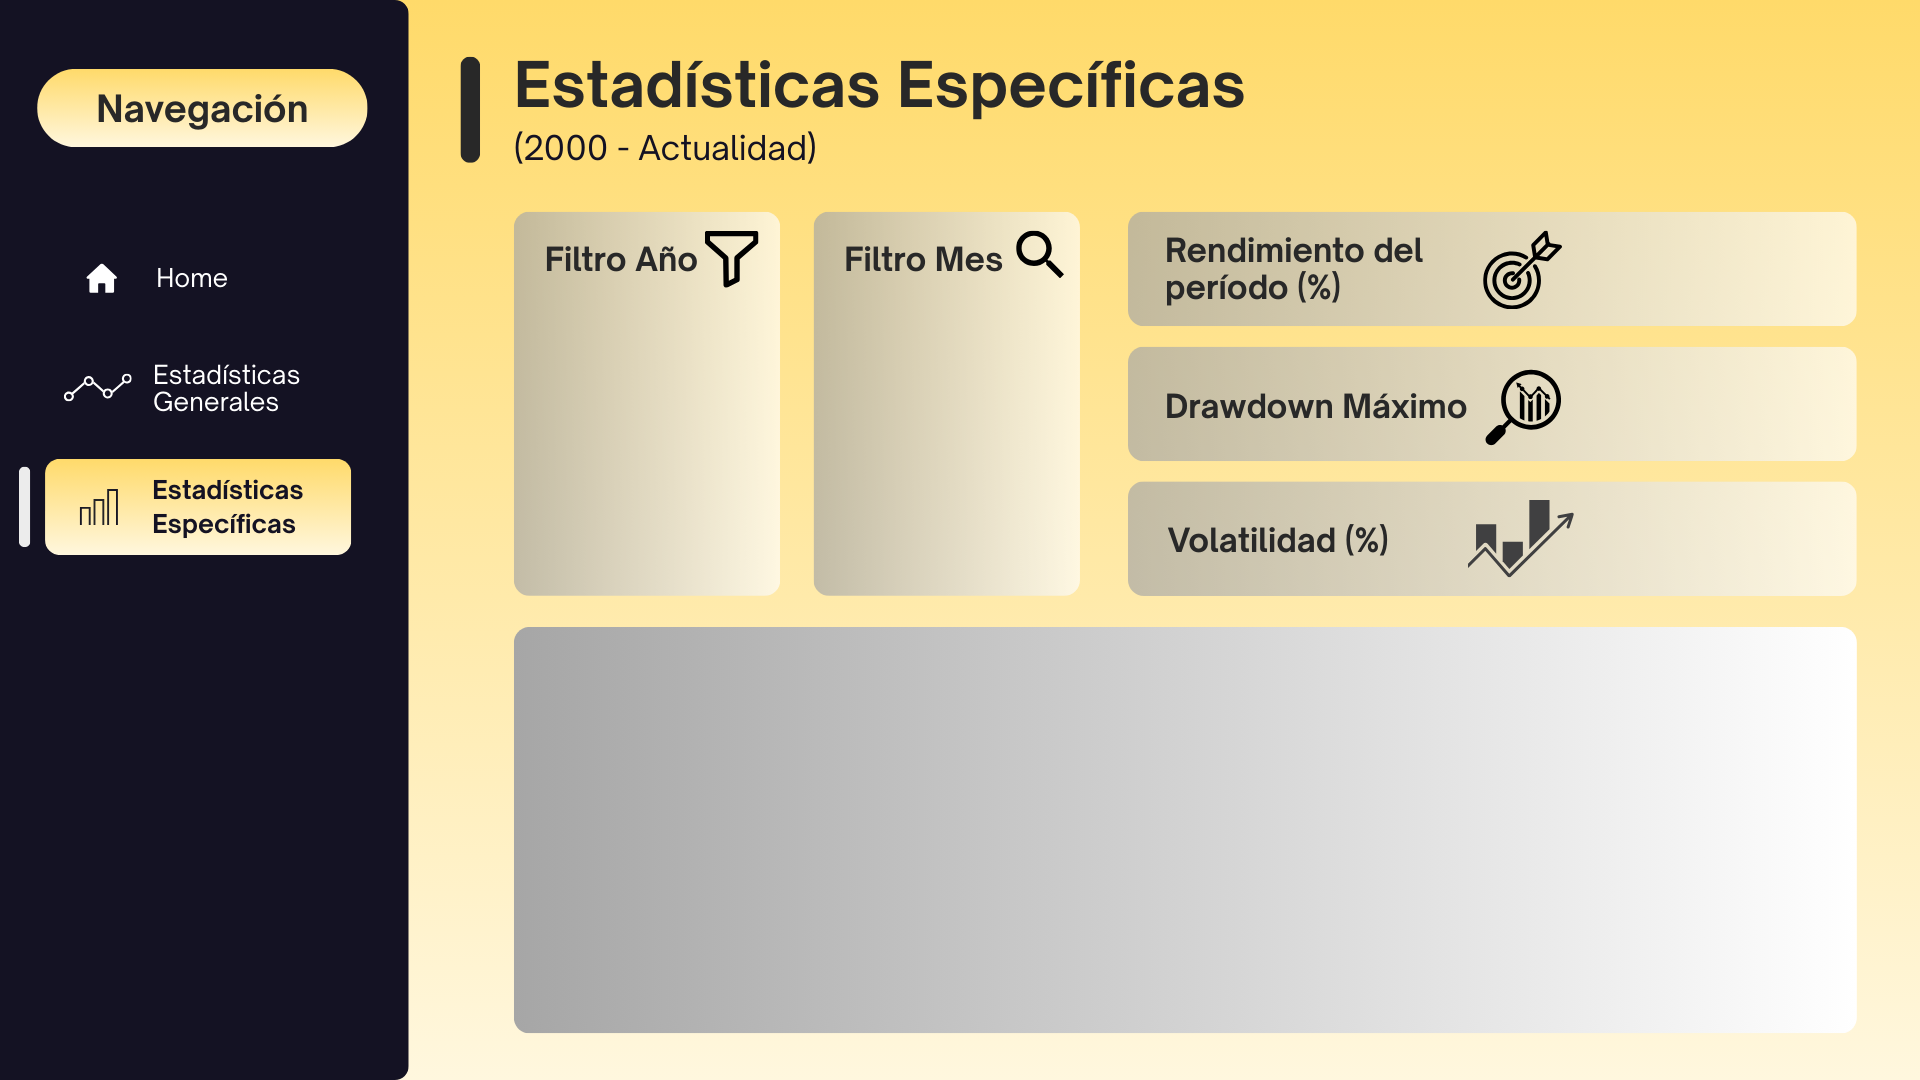

The dashboard page shown, as its layout file describes it:
{"tool":"powerbi","page":{"name":"Estadísticas Específicas","canvas":[1280,720],"ordinal":2},"visuals":[{"type":"slicer","fields":{"Values":["Oro_historico_2000.fecha.Variación.Jerarquía de fechas.Año"]},"box":[352.3,189.4,144.8,189.4],"z":0},{"type":"slicer","fields":{"Values":["Oro_historico_2000.fecha.Variación.Jerarquía de fechas.Mes"]},"box":[553.8,189.4,147.2,202.7],"z":1000},{"type":"lineChart","fields":{"Y":["Avg(Oro_historico_2000.precio_usd)"],"Category":["Oro_historico_2000.fecha"]},"box":[352.3,429.5,873.5,250.9],"z":2000},{"type":"actionButton","box":[47.1,168.9,131.5,39.8],"z":3000},{"type":"actionButton","box":[36.2,234,184.6,50.7],"z":4000},{"type":"cardVisual","fields":{"Data":["Oro_historico_2000.Rendimiento Periodo %"]},"box":[998.4,140.6,242.2,74.2],"z":5000},{"type":"cardVisual","fields":{"Data":["Oro_historico_2000.Drawdown Max (KPI)"]},"box":[1048.7,203.3,183.6,130.9],"z":6000},{"type":"cardVisual","fields":{"Data":["Oro_historico_2000.Volatilidad KPI"]},"box":[1055.7,312.9,175.7,95.7],"z":7000}]}

Visuals, with their boxes in screenshot pixels (x1, y1, x2, y2), scaled from the page's 1280x720 canvas onto the 1920x1080 screenshot:
slicer - Oro_historico_2000.fecha.Variación.Jerarquía de fechas.Año: [left=528, top=284, right=746, bottom=568]
slicer - Oro_historico_2000.fecha.Variación.Jerarquía de fechas.Mes: [left=831, top=284, right=1052, bottom=588]
lineChart - Avg(Oro_historico_2000.precio_usd) x Oro_historico_2000.fecha: [left=528, top=644, right=1839, bottom=1021]
actionButton: [left=71, top=253, right=268, bottom=313]
actionButton: [left=54, top=351, right=331, bottom=427]
cardVisual - Oro_historico_2000.Rendimiento Periodo %: [left=1498, top=211, right=1861, bottom=322]
cardVisual - Oro_historico_2000.Drawdown Max (KPI): [left=1573, top=305, right=1848, bottom=501]
cardVisual - Oro_historico_2000.Volatilidad KPI: [left=1584, top=469, right=1847, bottom=613]
